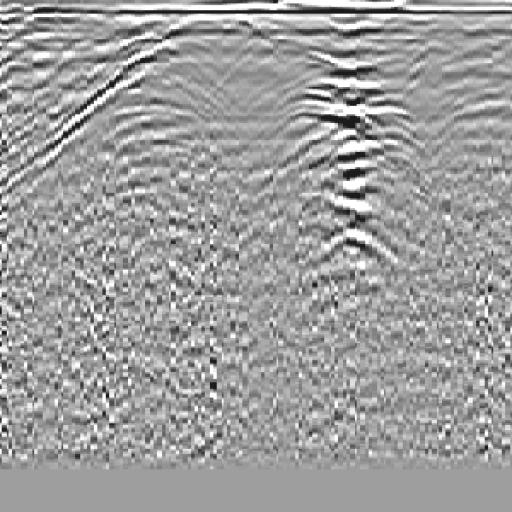metalic: (295, 47, 413, 282)
